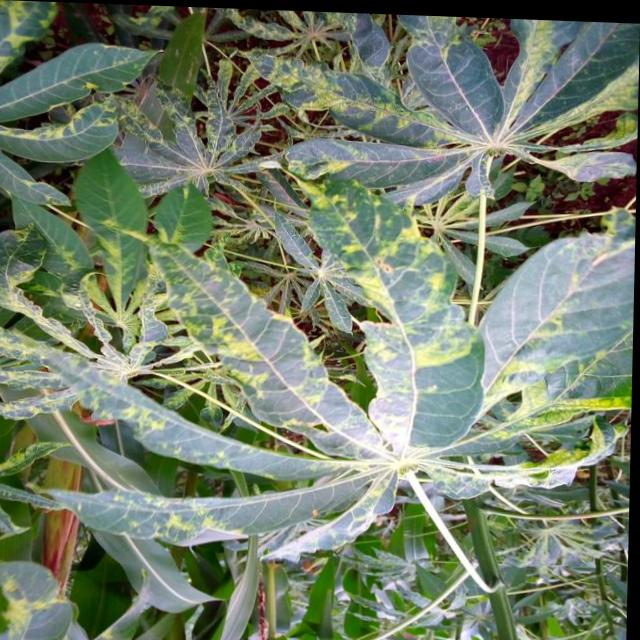Mosaico: (137, 227, 614, 524), (266, 33, 637, 229), (0, 213, 261, 407), (84, 81, 344, 226)
